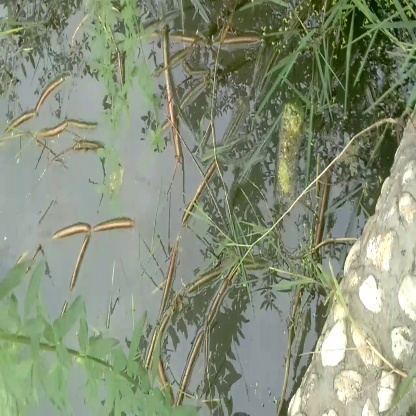grass: (1, 289, 164, 416)
